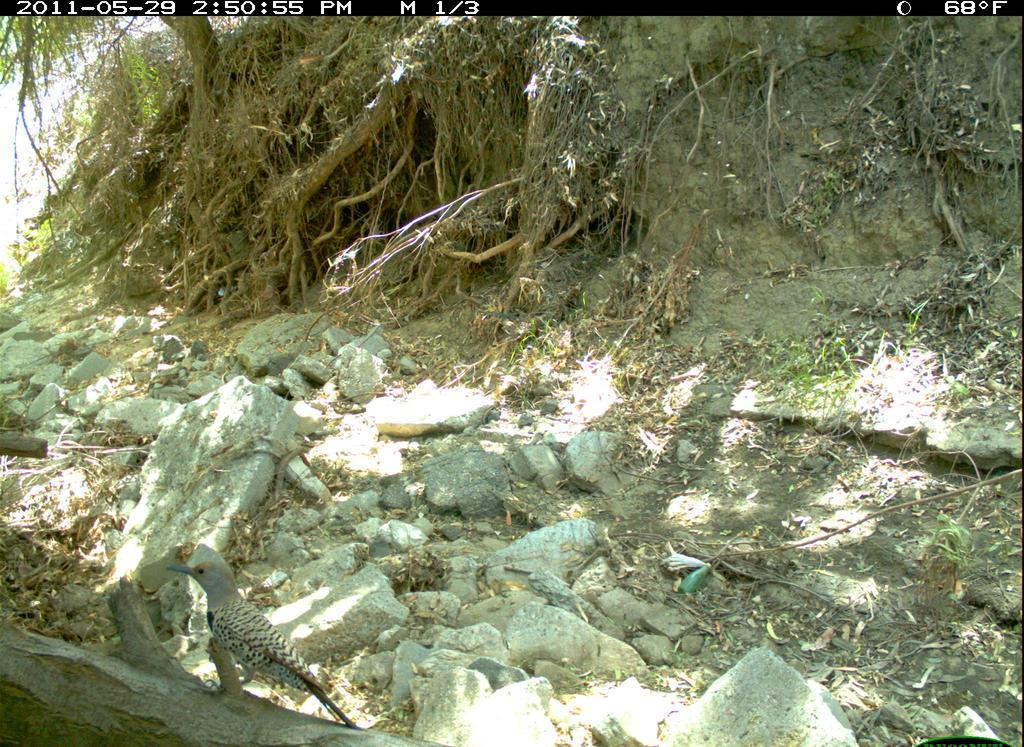bird: (161, 546, 368, 733)
